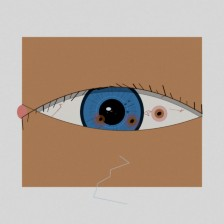foreign_body_visible: (148, 104, 171, 123)
